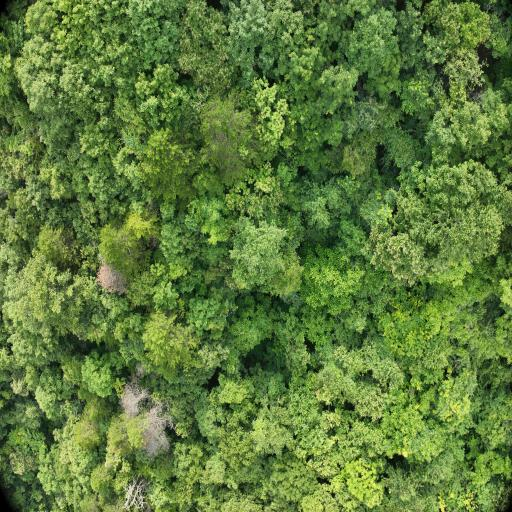dead-tree: (98, 258, 116, 292), (122, 387, 142, 414), (149, 422, 162, 458)
